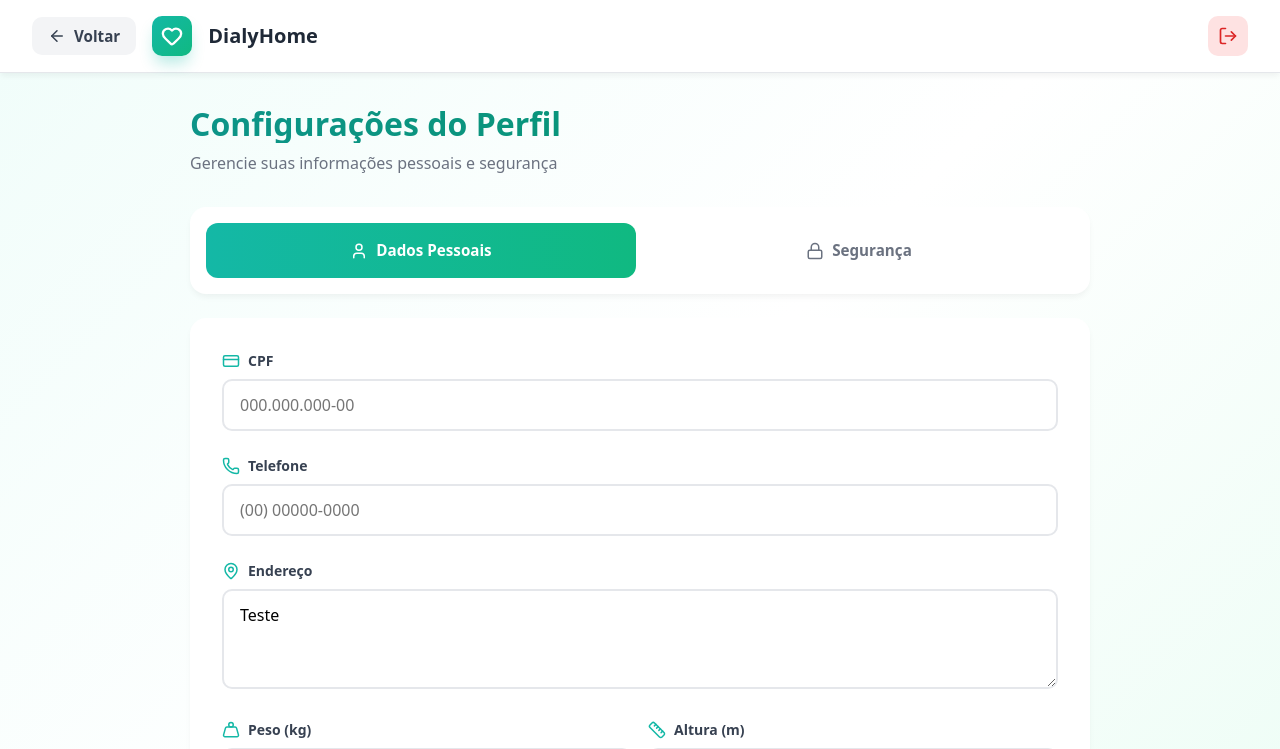
it: 🧪 PatientProfile › exibe erro se updatePatientProfile falhar
Step 1. Replace the text in the text box with placeholder "Rua, número, bairro, cidade, estado" with "Nova Rua" → x=640, y=639, box [222,589,1058,689]
(page scrolled)
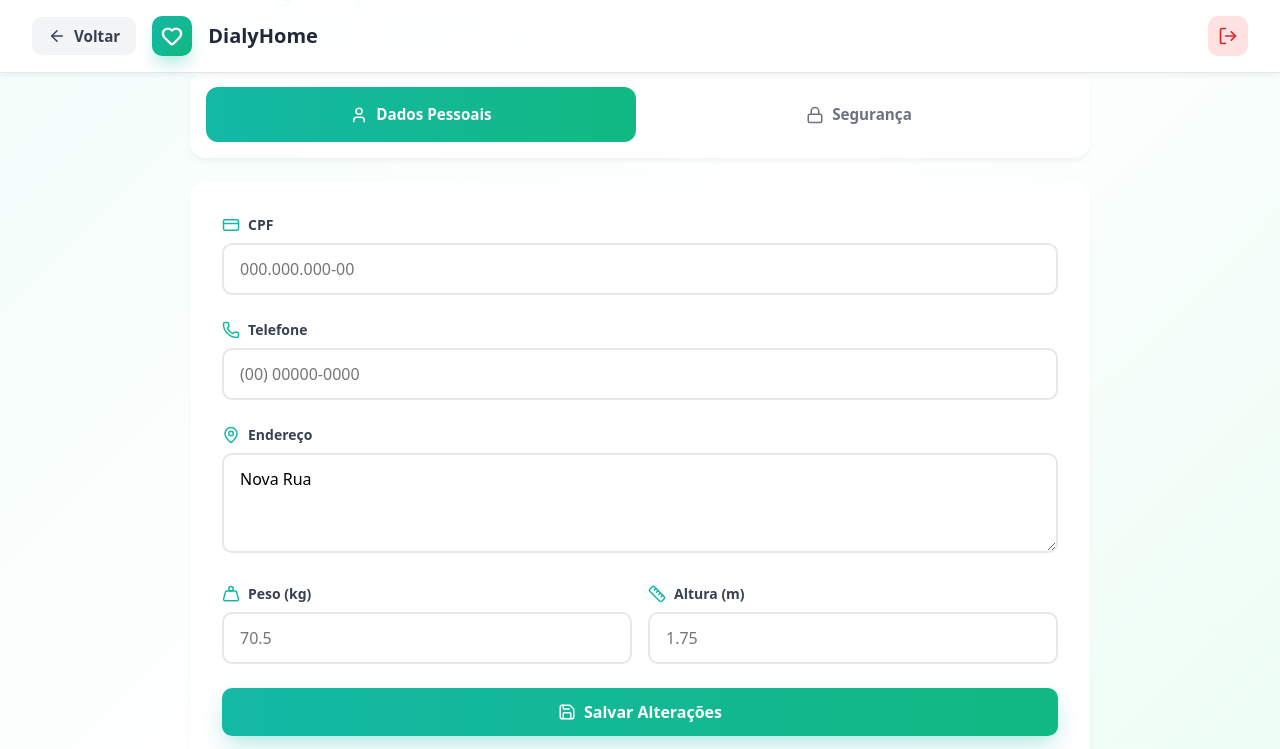
Step 2. Submit the form from the button "Salvar Alterações", box [222,688,1058,736]
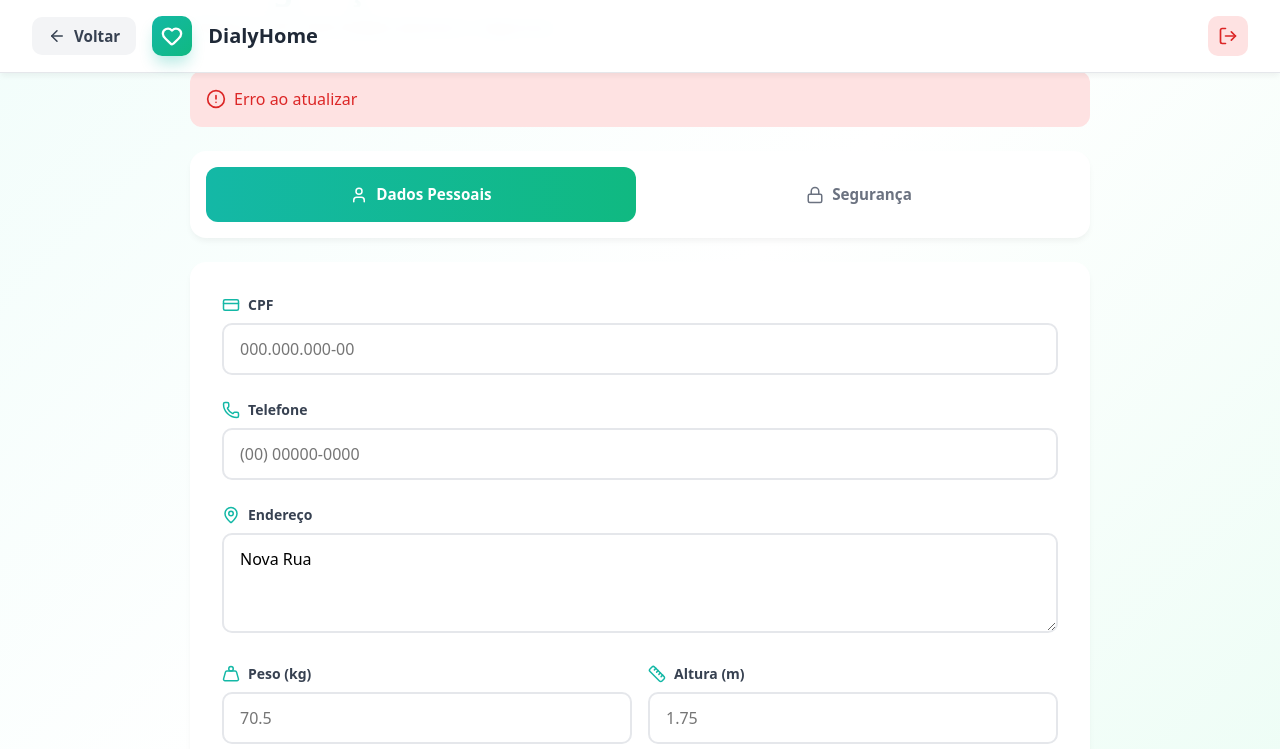
expect the text "Erro ao atualizar" is shown: met, box [190,71,1090,127]
